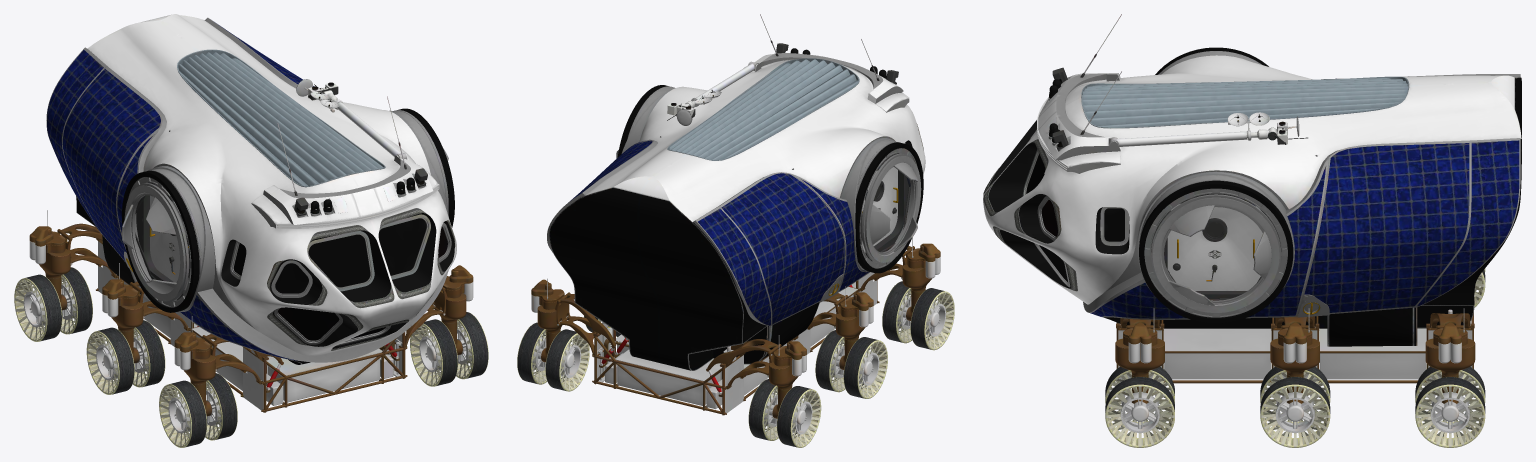
The model's file is nasa-space-exploration-vehicle.glb.
The picture shows the model from 3 angles, left to right: view 1: azimuth 30°, elevation 25°; view 2: azimuth 150°, elevation 25°; view 3: azimuth 270°, elevation 25°; orthographic projection. The views are drawn at different scales.
Parts seen in each view (by area): view 1: MMSEV; view 2: MMSEV; view 3: MMSEV.
Boxes of the visible parts, box(x1,y1,x2,y2) form: MMSEV: box(14, 14, 488, 447); MMSEV: box(517, 14, 954, 447); MMSEV: box(983, 14, 1521, 447).
Bounding box in the file's own units: 4.04 × 3.97 × 5.91.
Materials: 1 (1 with a texture image).
